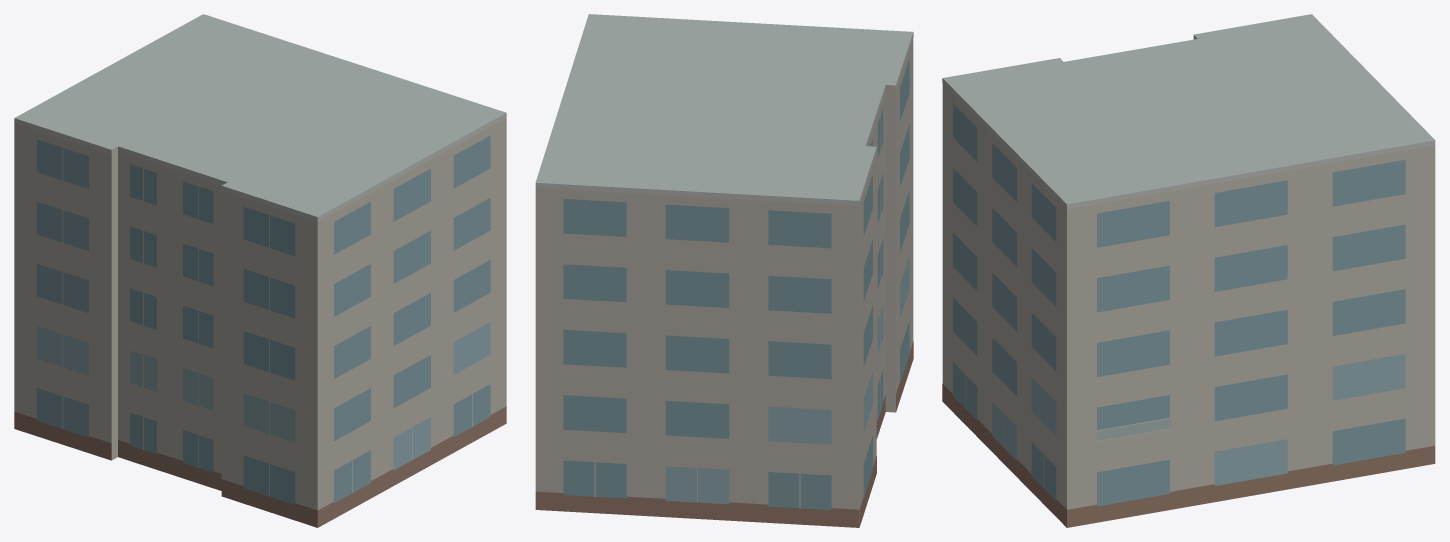
File: survey-upis-32942448.glb
3 views of the same model, side by side, from view 1: azimuth 30°, elevation 25°; view 2: azimuth 150°, elevation 25°; view 3: azimuth 270°, elevation 25° (orthographic). The views are drawn at different scales.
Visible parts, largest first — view 1: survey-upis-32942448.tmp; view 2: survey-upis-32942448.tmp; view 3: survey-upis-32942448.tmp.
Part boxes in pixels (box(x1,y1,x2,y2)): survey-upis-32942448.tmp: box(14, 14, 506, 527); survey-upis-32942448.tmp: box(535, 14, 913, 527); survey-upis-32942448.tmp: box(942, 14, 1435, 527).
Bounding box in the file's own units: 19.26 × 15.25 × 21.07.
